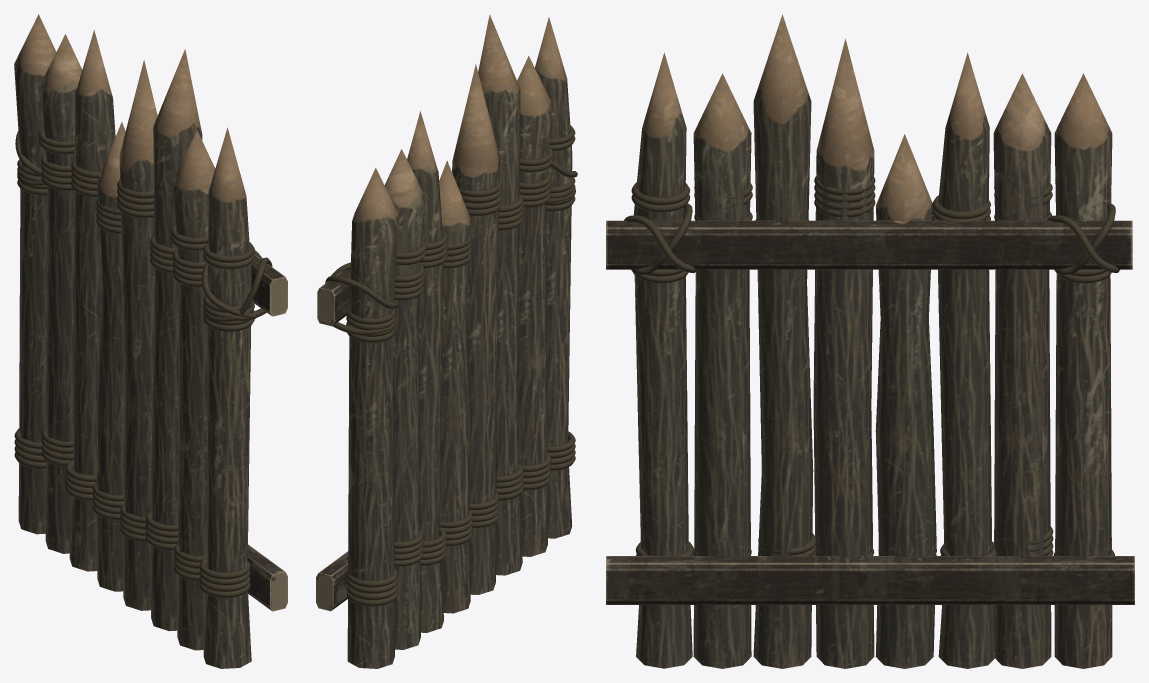
File: the_fence.glb
3 renders of one model, left to right at view 1: azimuth 30°, elevation 25°; view 2: azimuth 150°, elevation 25°; view 3: azimuth 270°, elevation 25°, orthographic. The views are drawn at different scales.
Parts seen in each view (by area): view 1: Cylinder.006, BezierCircle.015, Cube.001; view 2: Cylinder.006, BezierCircle.015, Cube.001; view 3: Cylinder.006, Cube.001, BezierCircle.015.
Boxes of the visible parts, x1,y1,x2,y2 form: Cylinder.006: [14, 14, 251, 668]; BezierCircle.015: [14, 127, 272, 597]; Cube.001: [247, 254, 287, 611]; Cylinder.006: [347, 14, 572, 668]; BezierCircle.015: [325, 125, 577, 606]; Cube.001: [316, 269, 350, 611]; Cylinder.006: [633, 14, 1112, 668]; Cube.001: [606, 220, 1134, 604]; BezierCircle.015: [624, 176, 1119, 555].
Bounding box in the file's own units: 0.7537 × 5.59 × 4.13.
Materials: 1 (1 with a texture image).
